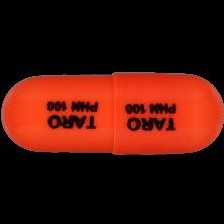67046-585: (0, 0, 224, 224)
